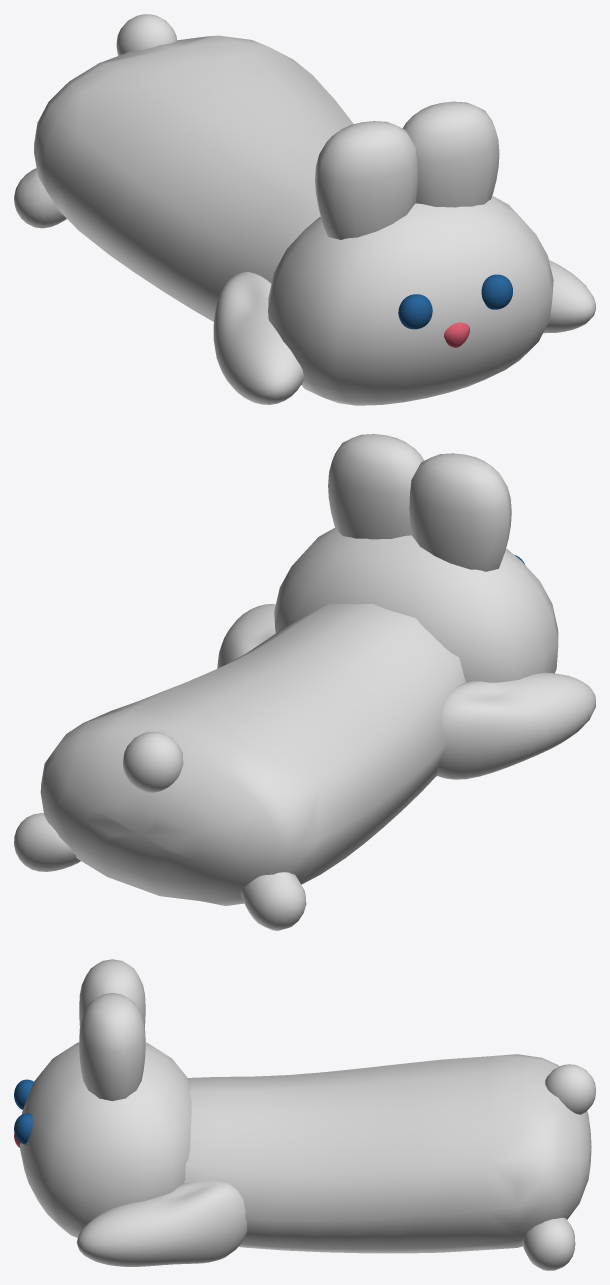
Rendered from Won.obj.
The picture shows the model from 3 angles, top to bottom: view 1: azimuth 30°, elevation 25°; view 2: azimuth 150°, elevation 25°; view 3: azimuth 270°, elevation 25°; orthographic projection. The views are drawn at different scales.
Visible parts, largest first — view 1: polySurface9; view 2: polySurface9; view 3: polySurface9.
Boxes of the visible parts, x1,y1,x2,y2 form: polySurface9: (14, 14, 595, 405); polySurface9: (14, 434, 595, 930); polySurface9: (14, 959, 595, 1270).
Bounding box in the file's own units: 3.74 × 3 × 6.25.
